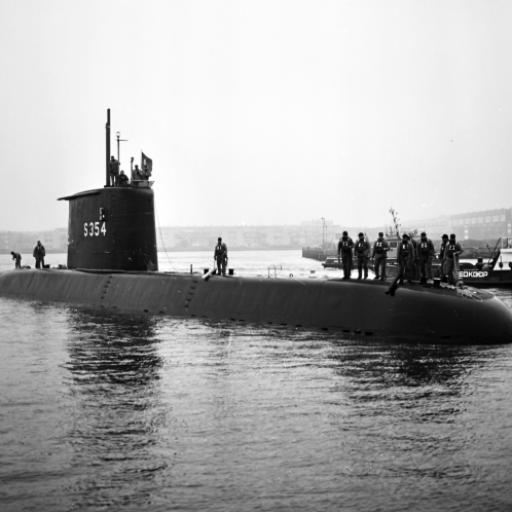submarine: (1, 108, 512, 345)
